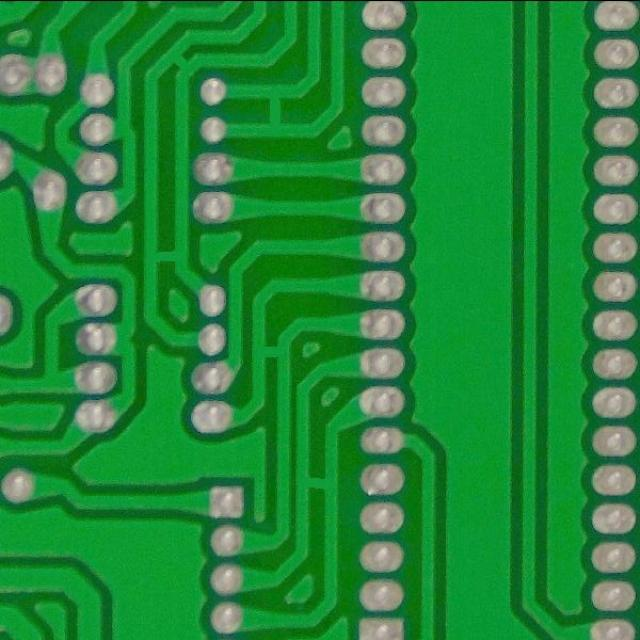Short_Circuit: (252, 75, 298, 147), (290, 462, 347, 505), (138, 238, 196, 276), (246, 335, 298, 371), (160, 41, 203, 83)
